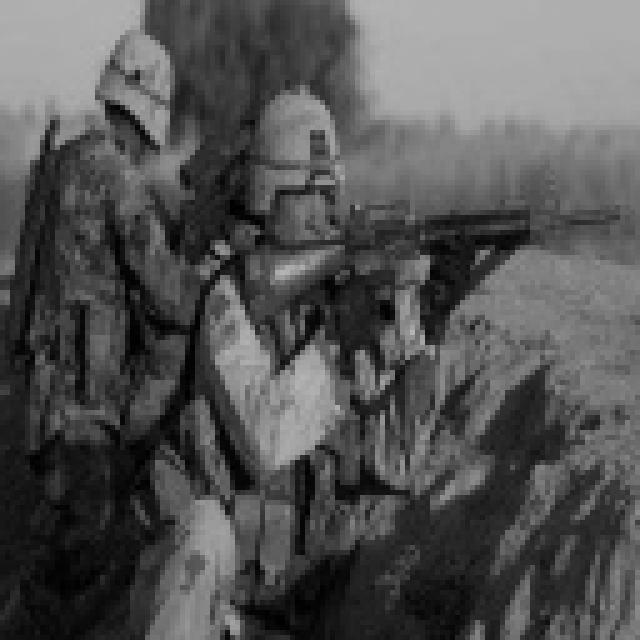Rifle: (9, 190, 640, 376), (0, 100, 102, 370), (158, 55, 278, 266)
